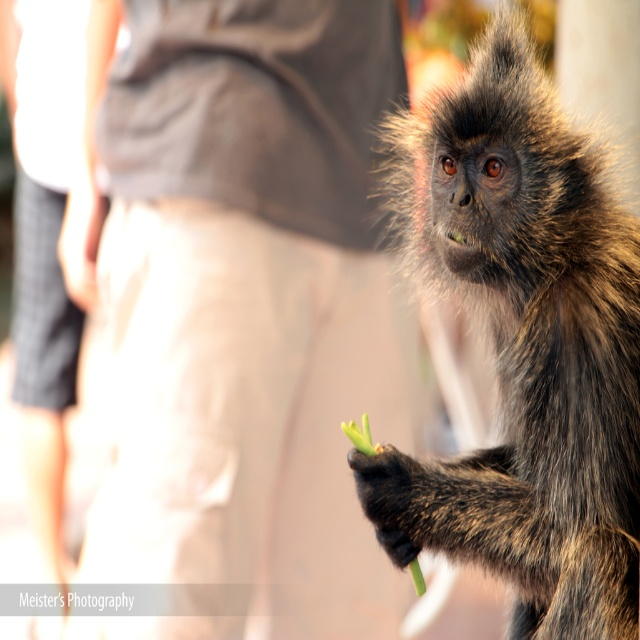Monkey: (349, 2, 640, 639)
